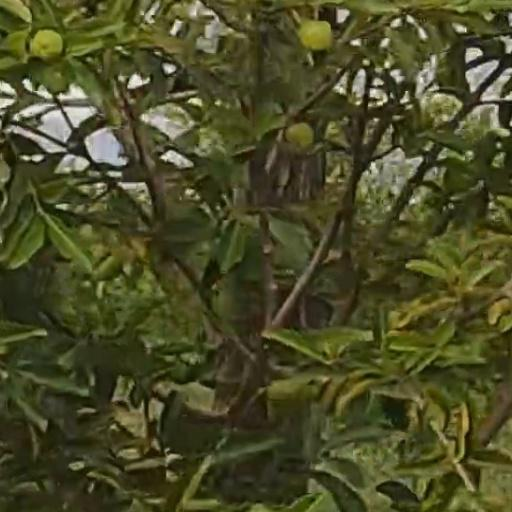acerola: (302, 22, 333, 51), (31, 29, 60, 59), (286, 123, 316, 144)
